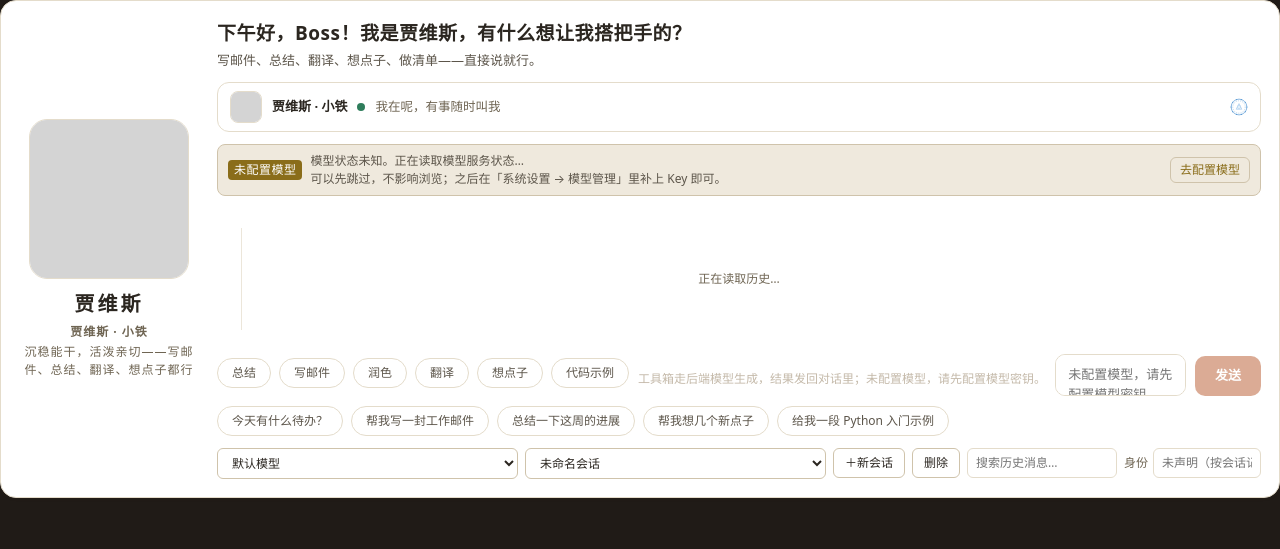
Test: ChatPanel 工具箱（单助手结合版） › 输入框是空的点「写邮件」：只填入指令，不发空消息
The image size is (1280, 549).
What coordinates should you click on to do the following:
click the button "写邮件"
I would click on:
 (312, 372)
Its box is 279,358 -> 345,388.
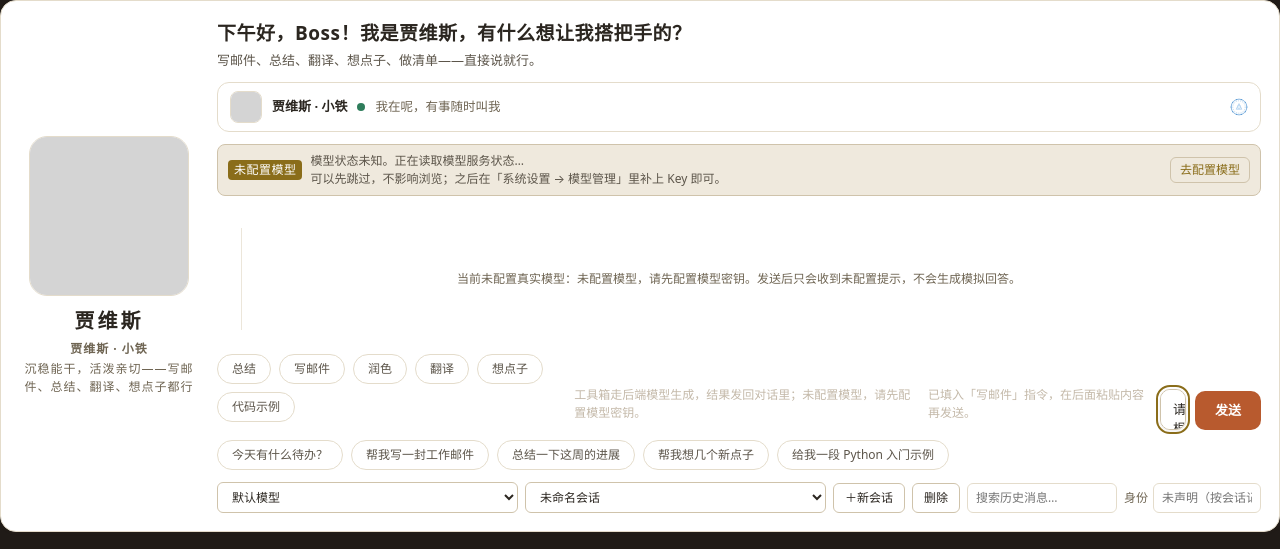
Expected: the text "已填入「写邮件」指令，在后面粘贴内容再发送。" is shown, 928,386 -> 1151,422
